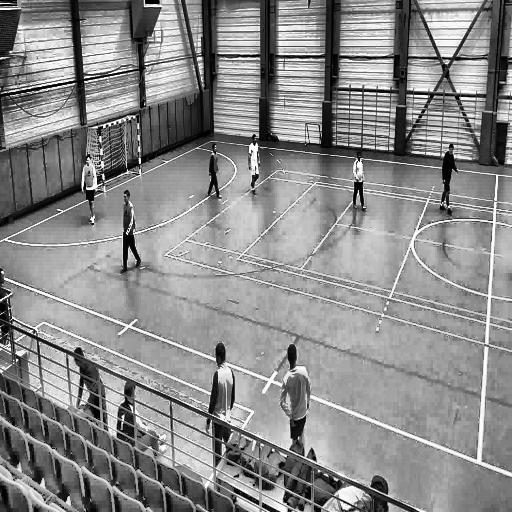player: (204, 342, 236, 452), (280, 337, 310, 453), (119, 190, 142, 277), (441, 142, 459, 221), (81, 152, 99, 228), (350, 147, 366, 219), (206, 143, 224, 202), (247, 134, 261, 198)
